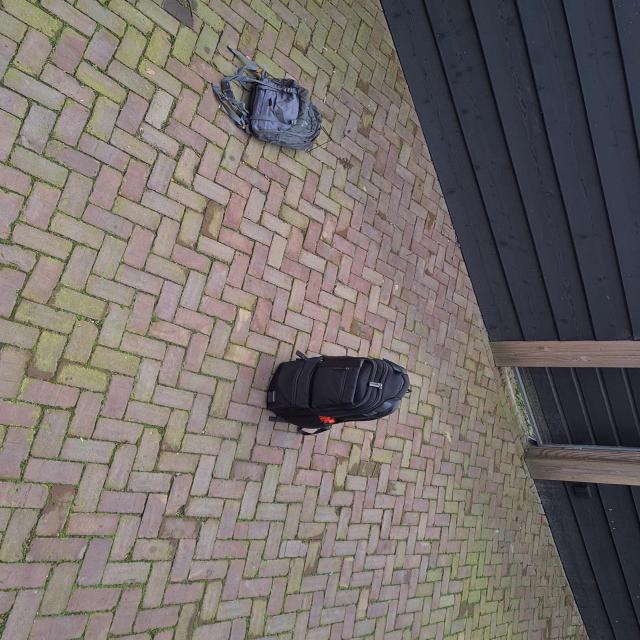backpack: (258, 351, 418, 432), (207, 69, 329, 151)
